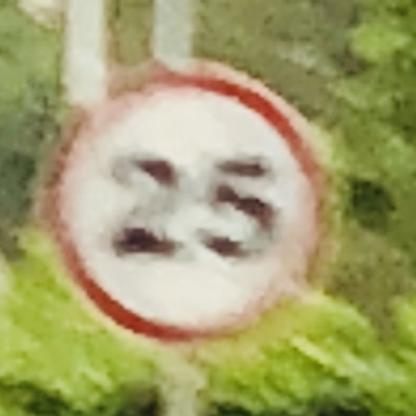Speed Limit -25 kmph-: (33, 53, 335, 354)
